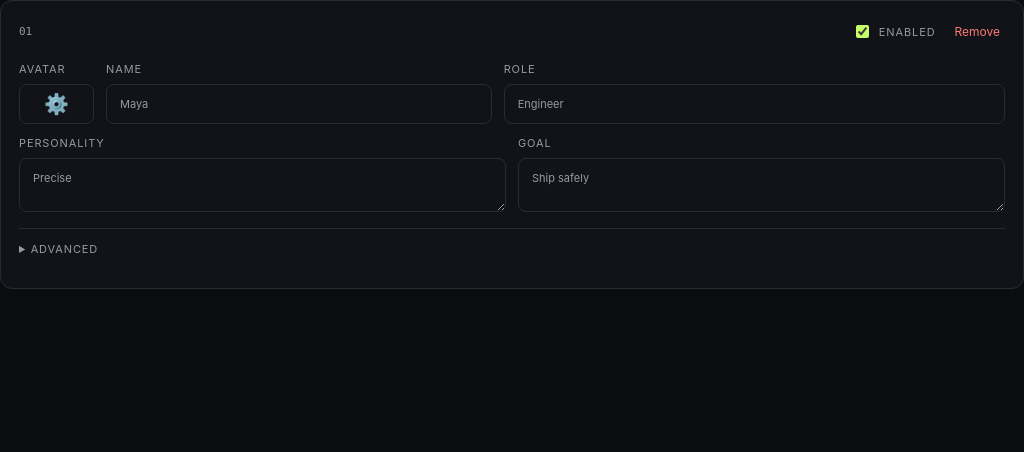
agent editor › keeps advanced customization additive and exposes no system override
Click the heading "Advanced" at (64, 249), box [31,242,98,256]
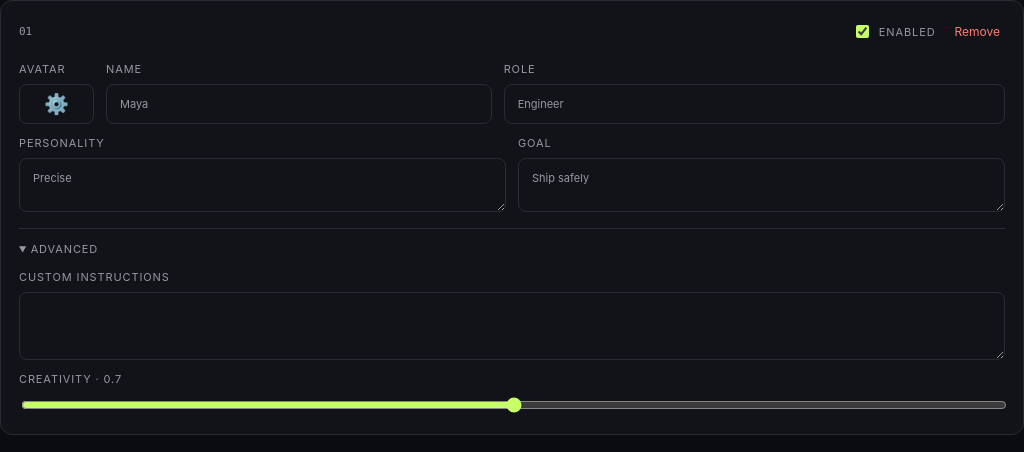
expect the text "Custom instructions" is shown: met, box [19,270,170,284]
